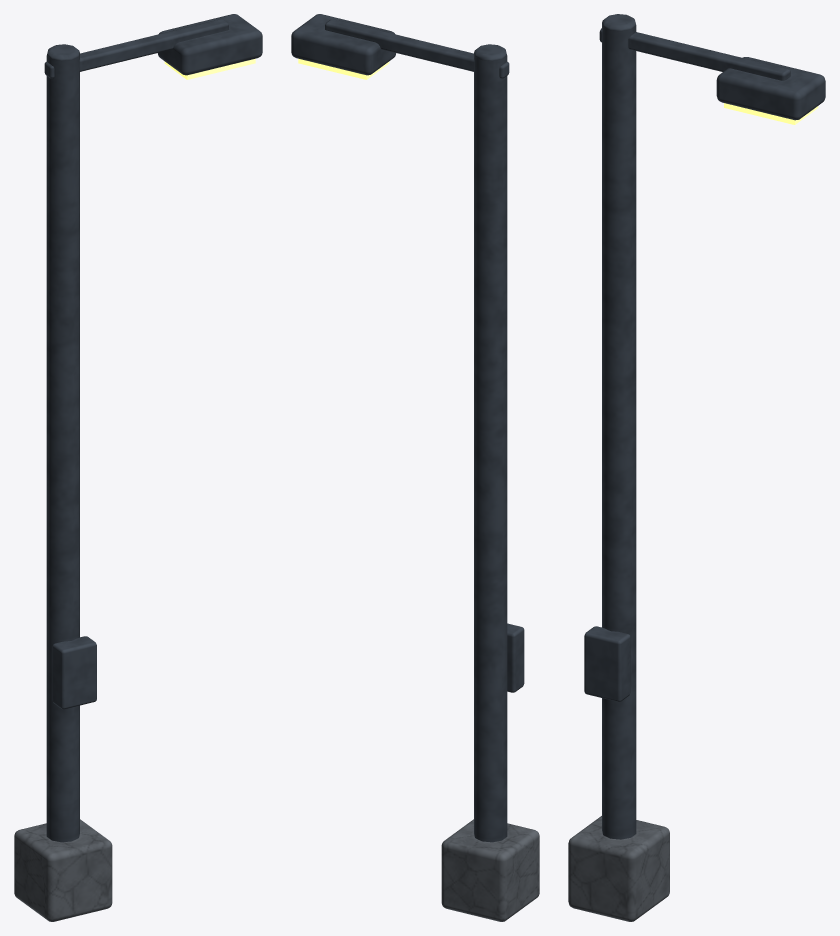
The model's file is lamp_post.glb.
3 renders of one model, left to right at view 1: azimuth 30°, elevation 25°; view 2: azimuth 150°, elevation 25°; view 3: azimuth 330°, elevation 25°, orthographic. The views are drawn at different scales.
Parts seen in each view (by area): view 1: Prop_lamp_post; view 2: Prop_lamp_post; view 3: Prop_lamp_post.
Boxes of the visible parts, bbox=[...] form: Prop_lamp_post: bbox=[14, 14, 262, 921]; Prop_lamp_post: bbox=[291, 14, 539, 921]; Prop_lamp_post: bbox=[568, 14, 825, 921].
Size of the model in its own units: 1.35 by 5 by 0.4.
3 materials, 2 textured.
